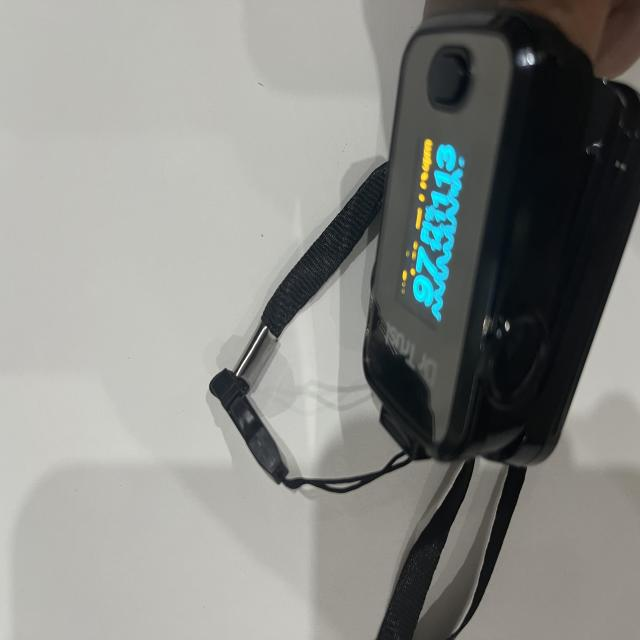spo2: (210, 0, 640, 640)
